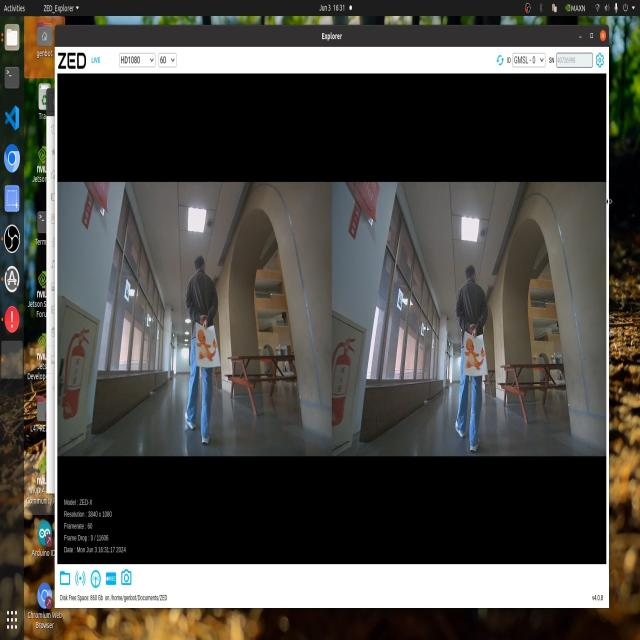red: (455, 323, 491, 383), (194, 319, 222, 365)
